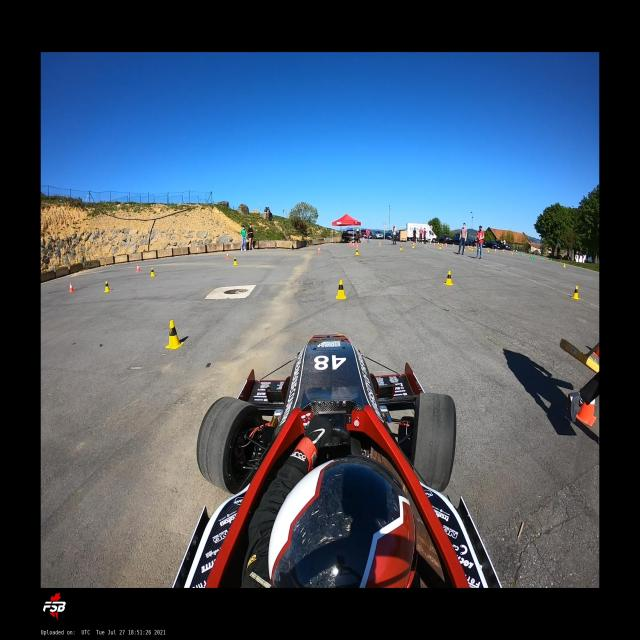orange_cone: (69, 282, 75, 292), (355, 247, 359, 255), (137, 264, 141, 272), (226, 251, 230, 258), (317, 246, 321, 252), (355, 242, 358, 248), (356, 243, 359, 248), (445, 243, 448, 247), (433, 242, 436, 246), (349, 241, 351, 247), (441, 244, 444, 248), (511, 251, 513, 255), (379, 242, 381, 246), (453, 243, 455, 247)
yellow_cone: (165, 320, 184, 349), (336, 280, 346, 299), (570, 285, 580, 299), (444, 271, 454, 285), (104, 280, 112, 292), (150, 266, 157, 276), (233, 256, 238, 265), (355, 247, 359, 255), (399, 244, 403, 250), (412, 242, 415, 248), (439, 244, 442, 249), (563, 263, 566, 267), (464, 246, 466, 251), (488, 248, 490, 252), (469, 246, 471, 250), (471, 247, 473, 250)
